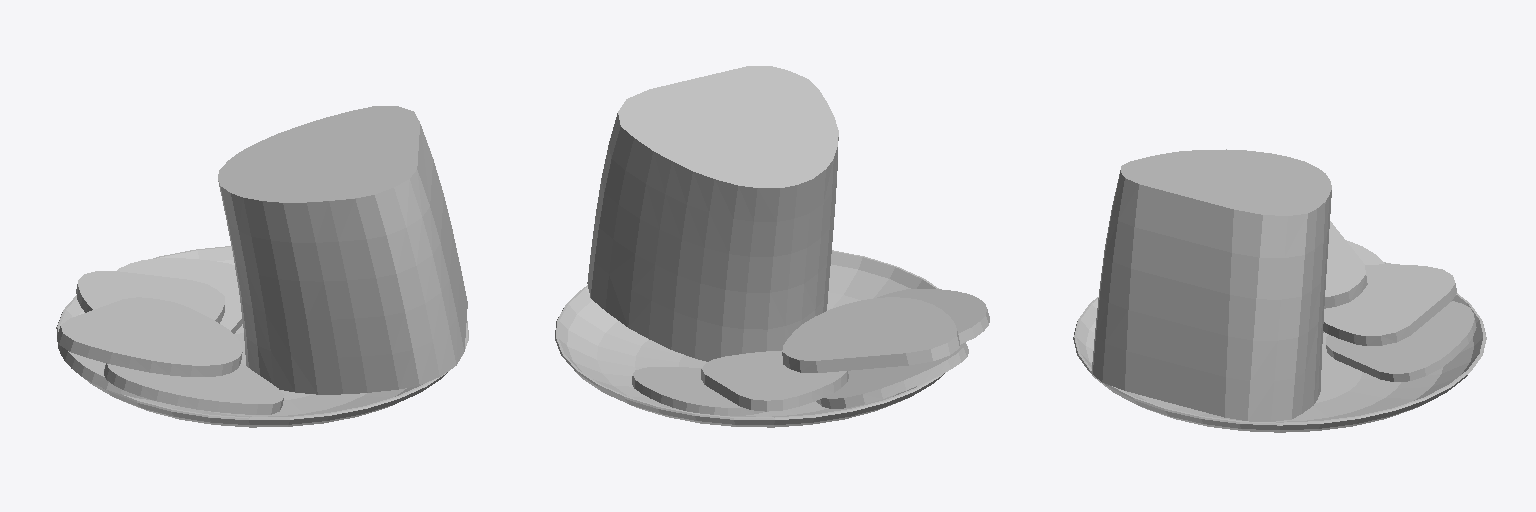
The model's file is Bread_Slices_OBJ.obj.
3 renders of one model, left to right at view 1: azimuth 30°, elevation 25°; view 2: azimuth 150°, elevation 25°; view 3: azimuth 270°, elevation 25°, orthographic.
Visible parts, largest first — view 1: Bread_Slices; view 2: Bread_Slices; view 3: Bread_Slices.
Boxes of the visible parts, x1,y1,x2,y2 form: Bread_Slices: [56, 106, 468, 427]; Bread_Slices: [555, 66, 989, 427]; Bread_Slices: [1073, 149, 1486, 432].
Bounding box in the file's own units: 43.25 × 25.32 × 40.87.